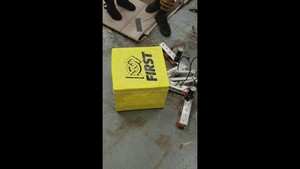cube: (110, 47, 169, 111)
